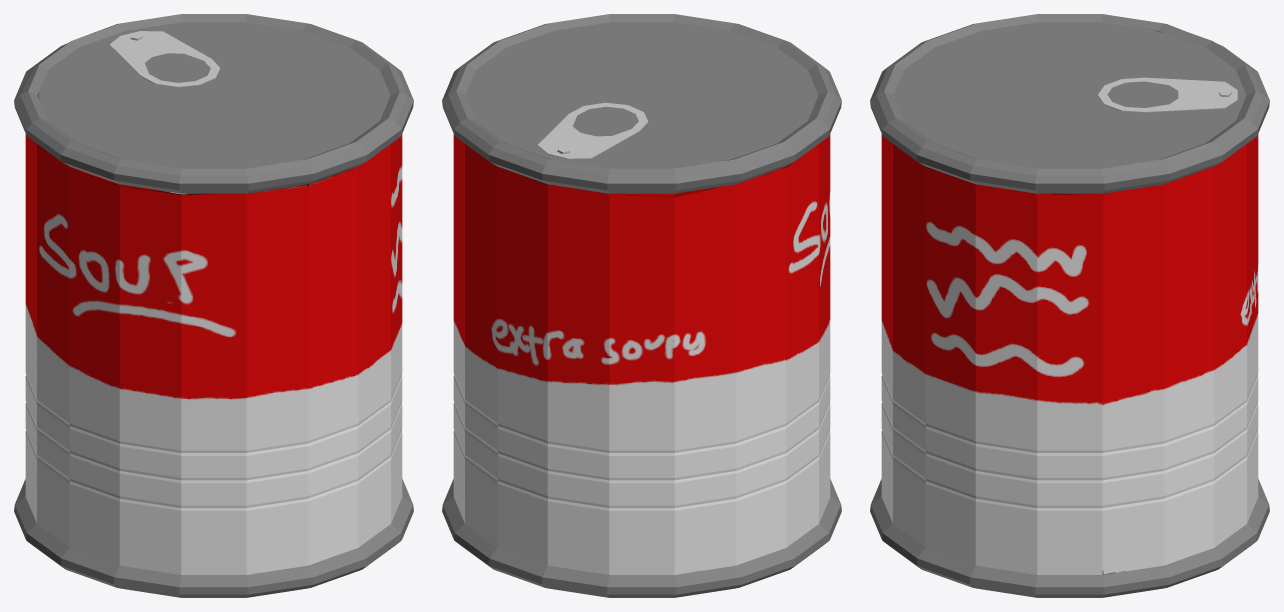
File: Soup.fbx
3 views of the same model, side by side, from view 1: azimuth 30°, elevation 25°; view 2: azimuth 150°, elevation 25°; view 3: azimuth 270°, elevation 25° (orthographic).
Visible parts, largest first — view 1: Can, Tab.001; view 2: Can, Tab.001; view 3: Can, Tab.001.
Boxes of the visible parts, left/top/right/bottom form: Can: left=14, top=14, right=413, bottom=597; Tab.001: left=109, top=31, right=220, bottom=87; Can: left=442, top=14, right=841, bottom=597; Tab.001: left=537, top=102, right=648, bottom=159; Can: left=870, top=14, right=1269, bottom=597; Tab.001: left=1098, top=77, right=1237, bottom=112.
Size of the model in its own units: 23.97 by 28.83 by 24.34.
